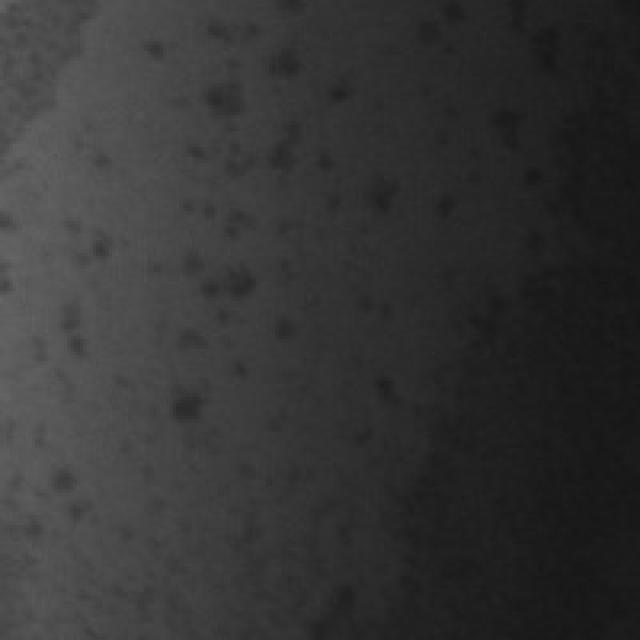pitted_surface: (368, 64, 634, 637), (109, 42, 355, 560), (3, 36, 118, 566)
